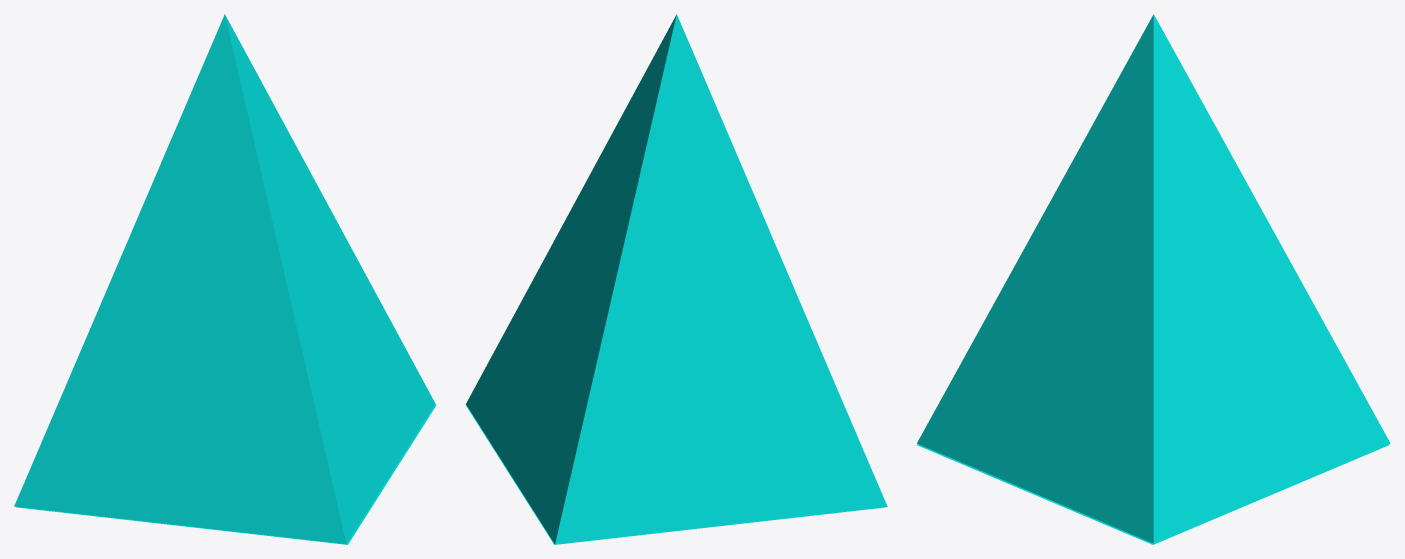
Rendered from pointer.fbx.
The picture shows the model from 3 angles, left to right: view 1: azimuth 30°, elevation 25°; view 2: azimuth 150°, elevation 25°; view 3: azimuth 270°, elevation 25°; orthographic projection. The views are drawn at different scales.
Visible parts, largest first — view 1: 円錐, 平面; view 2: 円錐; view 3: 円錐, 平面.
Part boxes in pixels (x1=…): 円錐: x1=14, y1=14, x2=435, y2=544; 平面: x1=16, y1=404, x2=436, y2=544; 円錐: x1=466, y1=14, x2=887, y2=544; 円錐: x1=917, y1=14, x2=1390, y2=543; 平面: x1=917, y1=444, x2=1389, y2=544.
Bounding box in the file's own units: 200 × 200 × 200.
